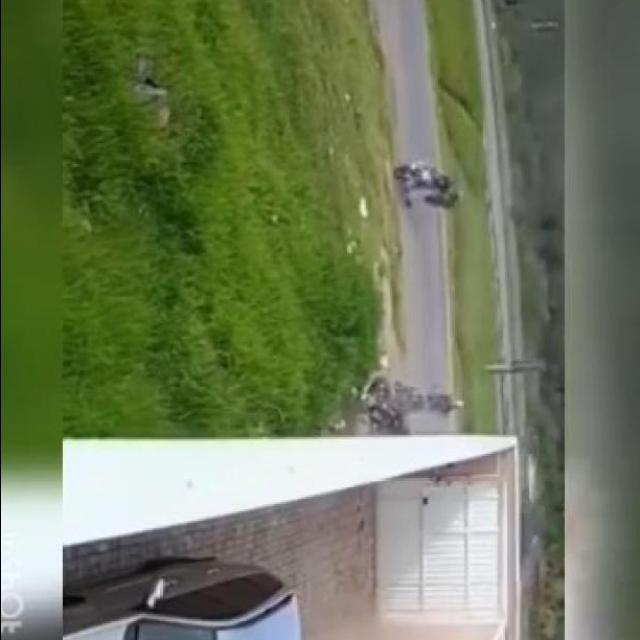accident: (350, 368, 421, 441)
